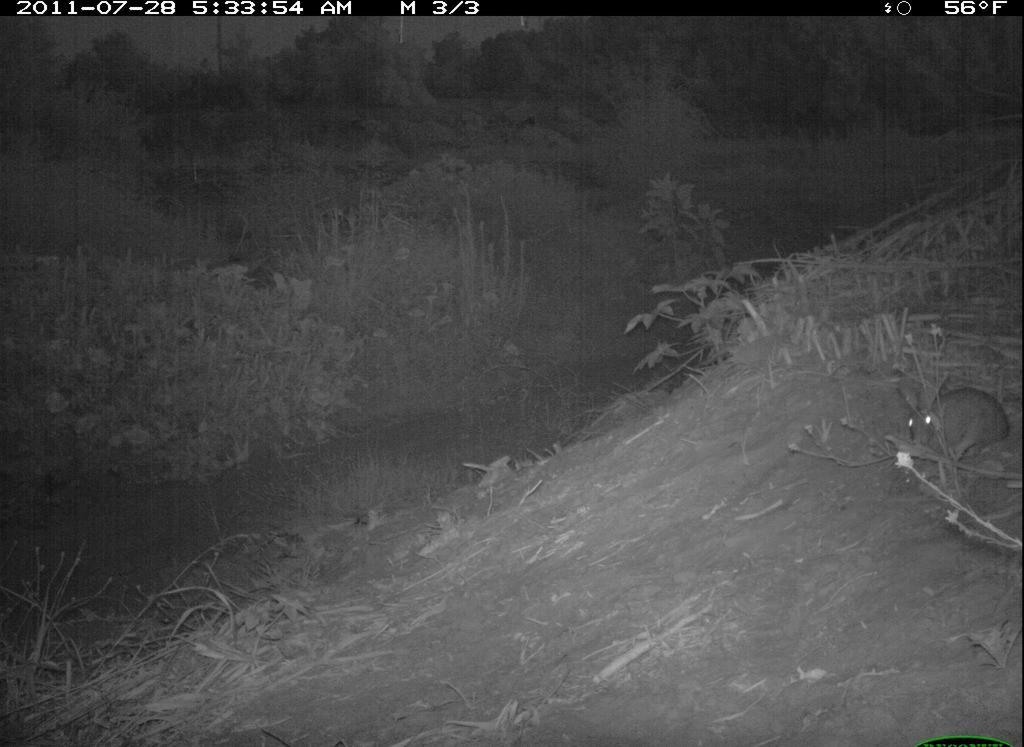rabbit: (879, 355, 1017, 479)
